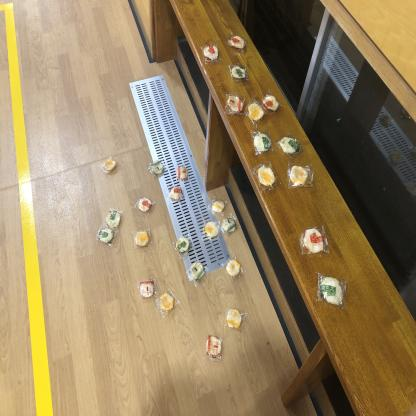green_setoshio: (315, 272, 350, 310), (277, 133, 303, 158), (186, 258, 209, 284), (96, 224, 117, 250), (252, 127, 272, 154), (104, 206, 126, 227), (173, 234, 192, 257), (229, 61, 248, 82), (148, 157, 166, 178), (223, 216, 239, 236)
red_setoshio: (300, 226, 329, 256), (224, 90, 245, 115), (204, 332, 223, 359), (136, 277, 158, 300), (203, 43, 221, 66), (262, 90, 280, 112), (166, 184, 184, 204), (136, 195, 154, 214), (228, 33, 248, 50), (174, 164, 190, 182)
yellow_setoshio: (254, 158, 278, 191), (286, 161, 312, 189), (223, 304, 247, 333), (245, 97, 266, 126), (131, 223, 152, 252), (157, 290, 179, 317), (224, 253, 245, 281), (208, 194, 228, 216), (100, 152, 119, 174), (203, 220, 219, 241)
